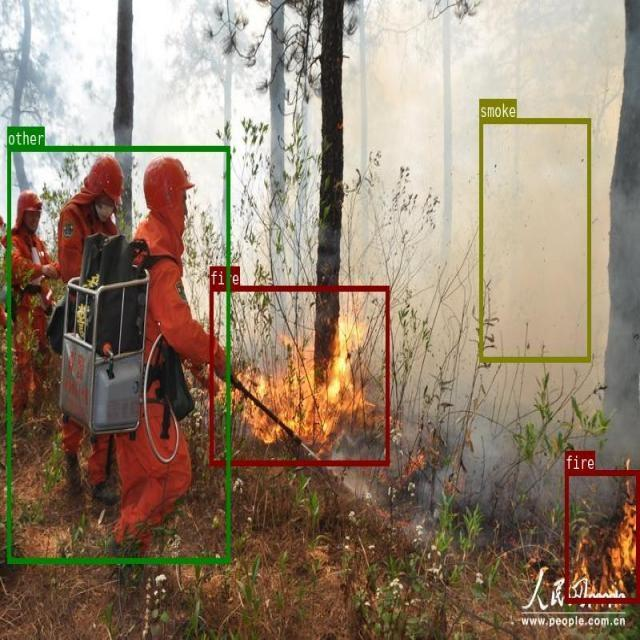fire: (209, 285, 389, 464), (565, 469, 638, 602)
smoke: (479, 117, 590, 361)
